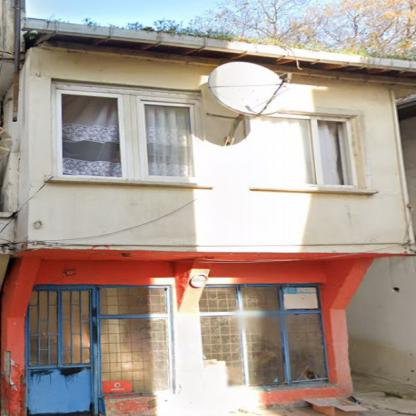door: (26, 288, 95, 415)
window: (197, 286, 326, 387), (57, 91, 194, 183), (100, 287, 173, 394), (254, 116, 354, 186)
